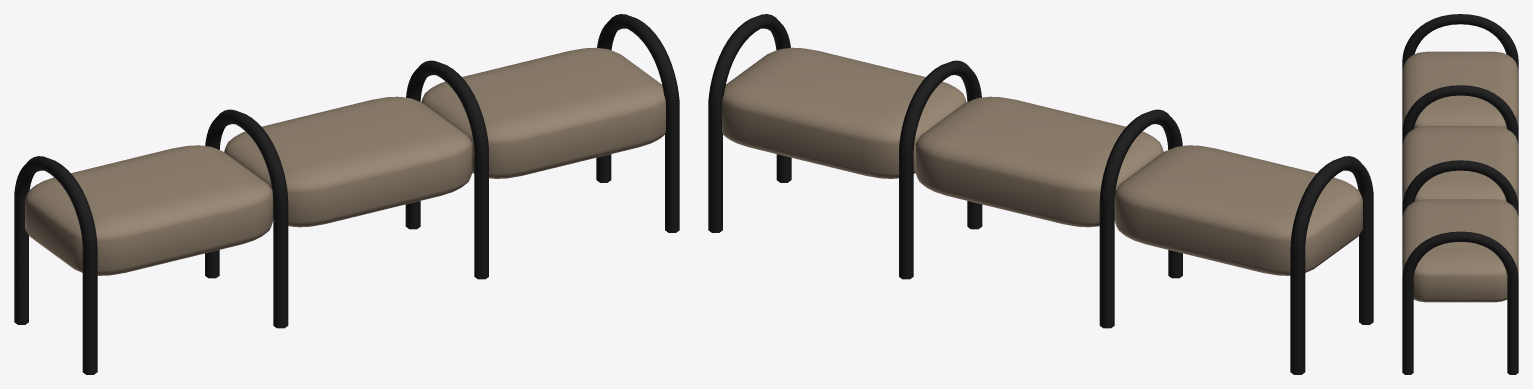
File: ParkBench.fbx
The picture shows the model from 3 angles, left to right: view 1: azimuth 30°, elevation 25°; view 2: azimuth 150°, elevation 25°; view 3: azimuth 270°, elevation 25°; orthographic projection. The views are drawn at different scales.
Visible parts, largest first — view 1: Pillow.001, Poles; view 2: Pillow.001, Poles; view 3: Pillow.001, Poles.
Boxes of the visible parts, x1=… form: Pillow.001: x1=25, y1=47, x2=665, y2=275; Poles: x1=14, y1=14, x2=679, y2=374; Pillow.001: x1=722, y1=47, x2=1362, y2=275; Poles: x1=708, y1=14, x2=1373, y2=374; Pillow.001: x1=1402, y1=51, x2=1518, y2=302; Poles: x1=1402, y1=14, x2=1518, y2=374.
Bounding box in the file's own units: 292 × 86.65 × 64.52.
